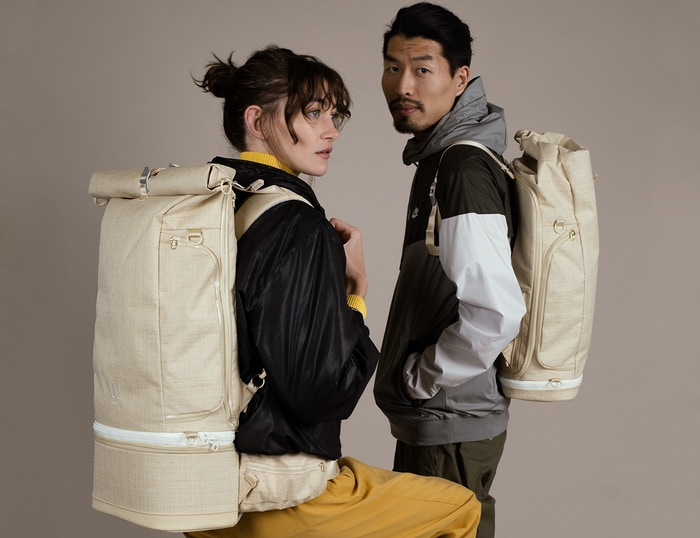backpack: (83, 161, 251, 534), (501, 118, 605, 410)
